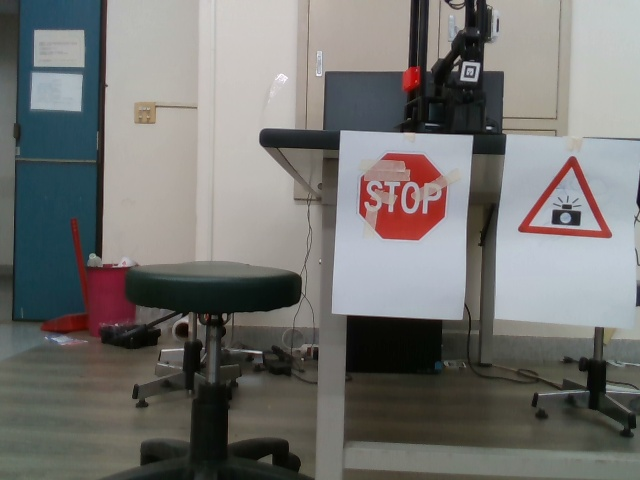camera: (517, 154, 620, 243)
stop: (353, 146, 453, 244)
